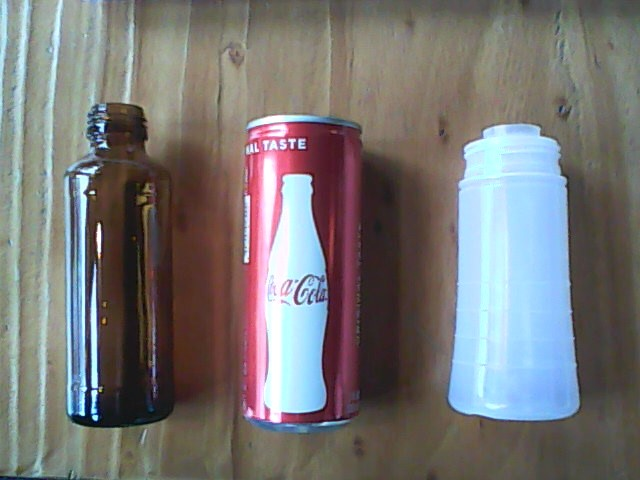Can: (233, 107, 368, 439)
Glass: (60, 99, 173, 431)
Plastic: (443, 121, 582, 428)
